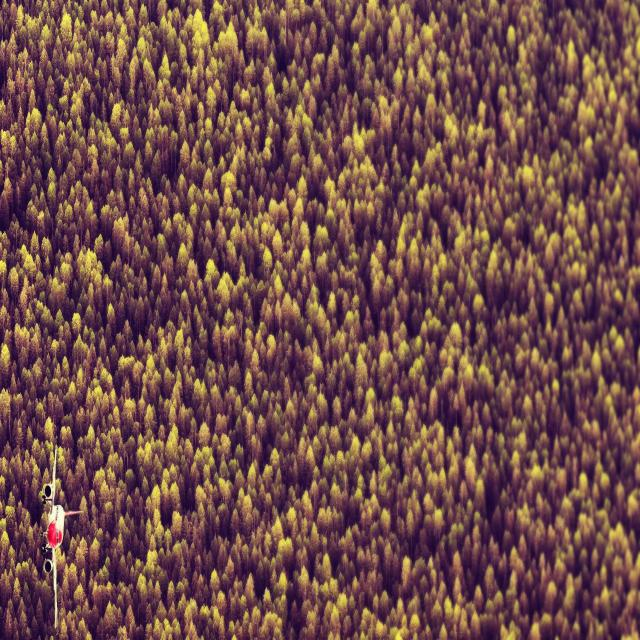airplane: (38, 443, 83, 628)
